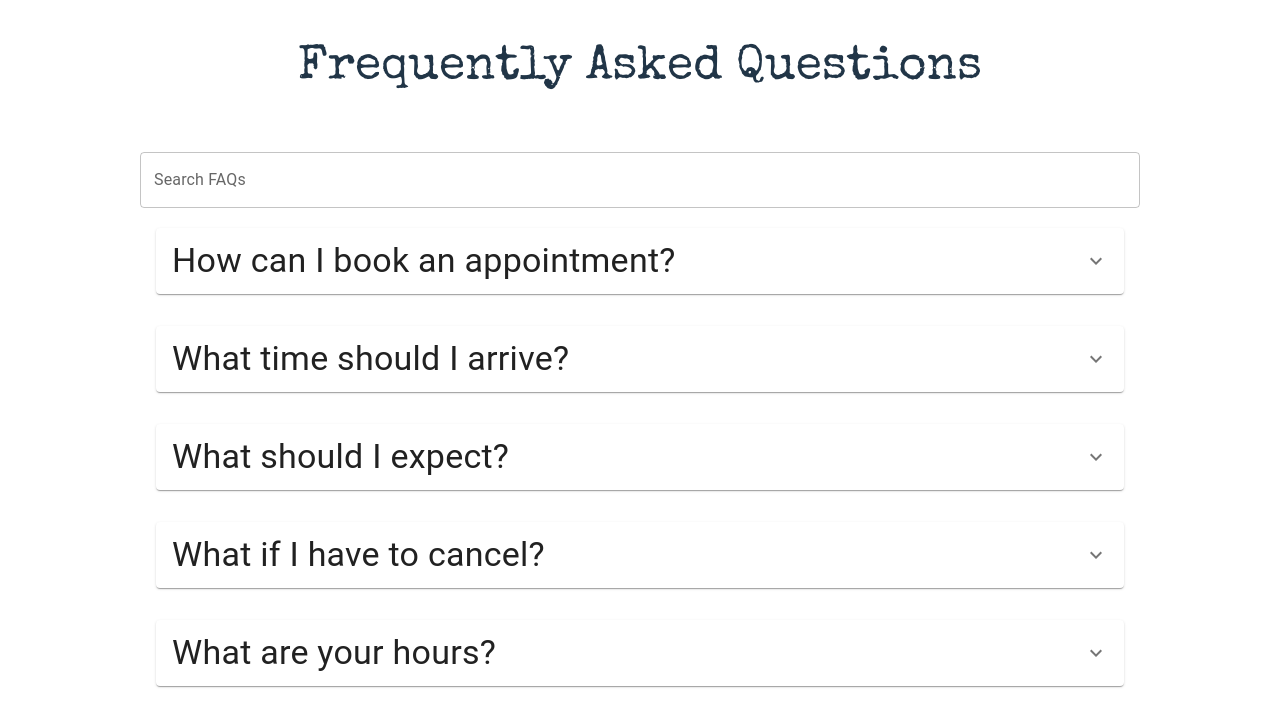
Test: FAQ Page › displays "No FAQs found" when no items match the search query
Note: Simulate typing a query that doesn't match any FAQ items
Step 1. Type "nonexistent" into the field labelled "Search FAQs" → (640, 180), box [140,152,1140,208]
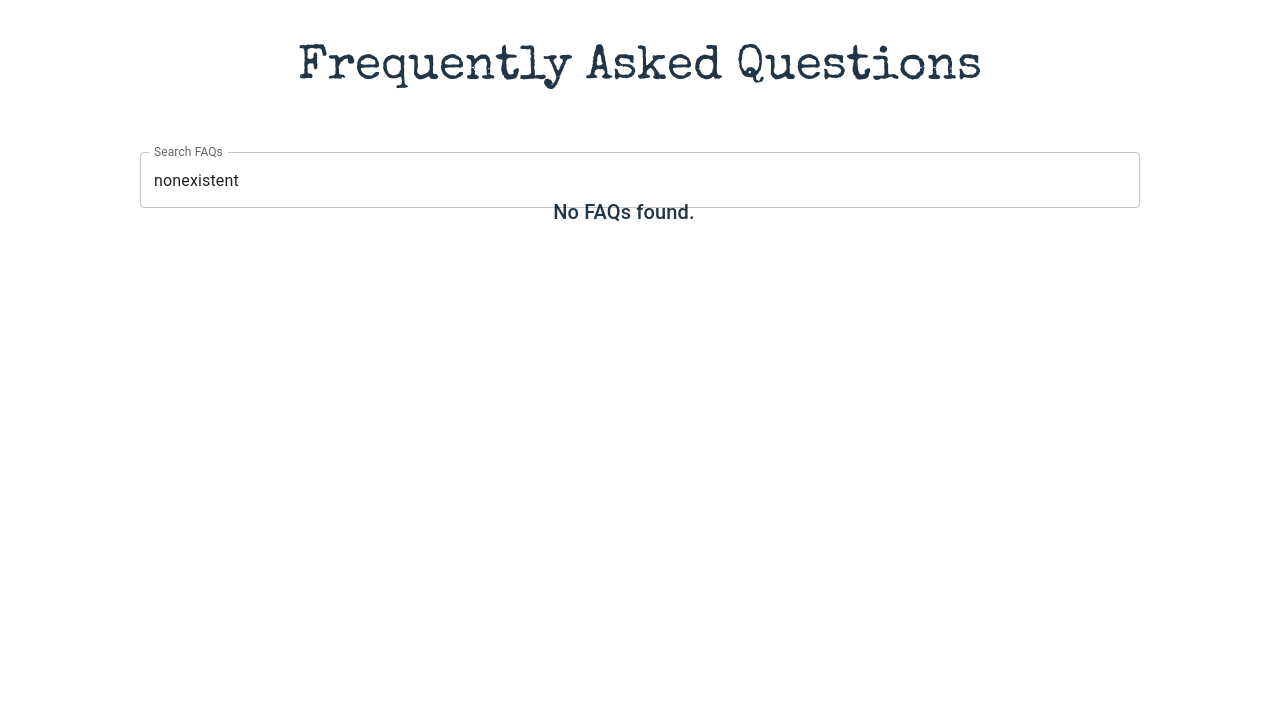
Expected: the heading "No FAQs found." is shown, [553,196,695,228]
